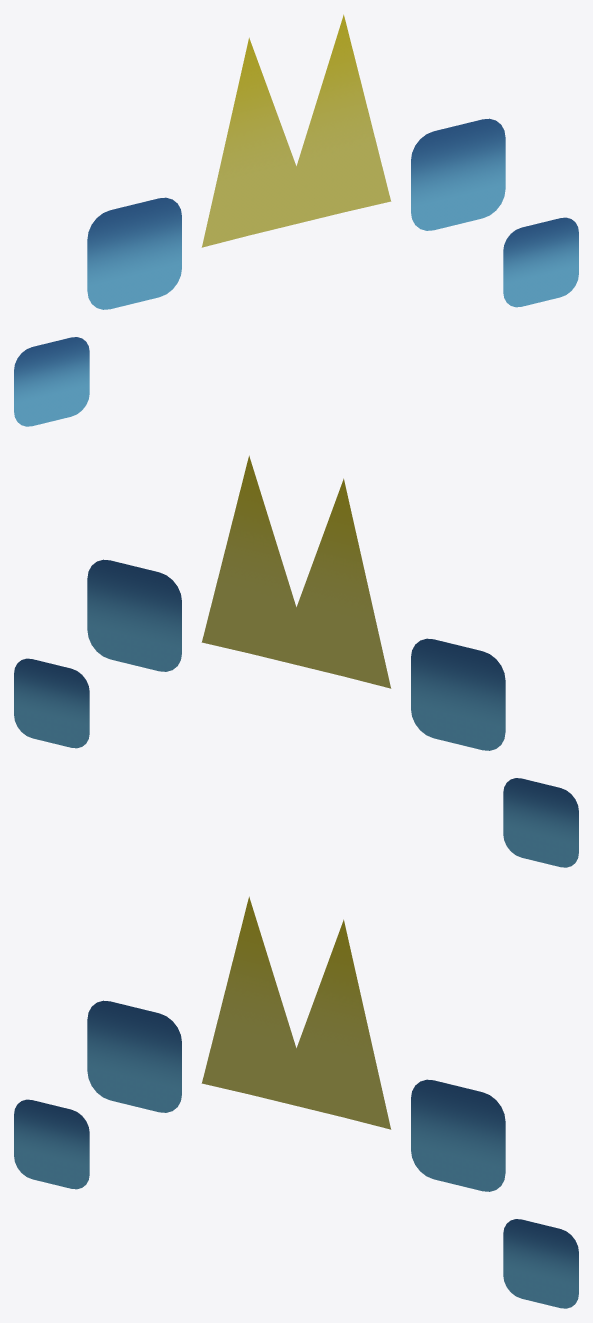
File: playerhead2.obj
The picture shows the model from 3 angles, top to bottom: view 1: azimuth 30°, elevation 25°; view 2: azimuth 150°, elevation 25°; view 3: azimuth 330°, elevation 25°; orthographic projection.
Visible parts, largest first — view 1: 平面.001_平面.007; view 2: 平面.001_平面.007; view 3: 平面.001_平面.007.
Part boxes in pixels (x1,y1,x2,y2): 平面.001_平面.007: (14,14,578,426); 平面.001_平面.007: (14,455,578,867); 平面.001_平面.007: (14,896,578,1308).
Size of the model in its own units: 5.97 by 3.39 by 0.
Materials: 1 (1 with a texture image).
